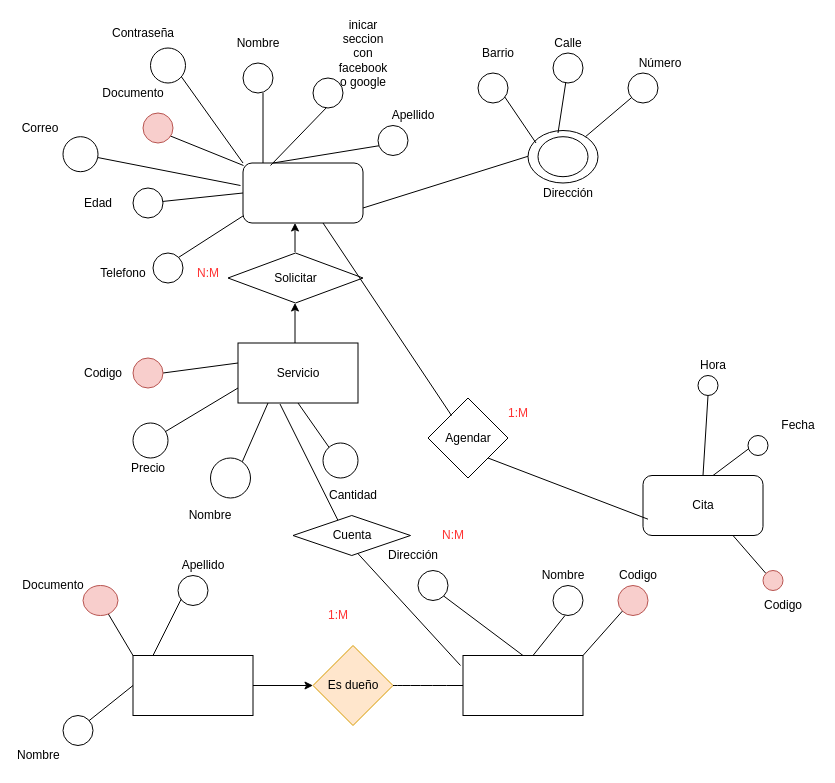
This 835x783 diagram has some shape labels left out. Each missing label, with the centre of its shape:
CLIENTE: (x=302, y=192)
Propietario: (x=192, y=685)
salón: (x=522, y=685)
